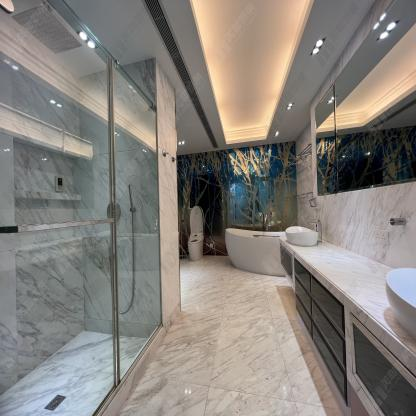Bathtub: (225, 228, 286, 276)
Faucet: (308, 218, 323, 243)
Toilet: (185, 202, 207, 264)
Toilet Sink: (382, 269, 416, 339), (285, 226, 319, 246)
